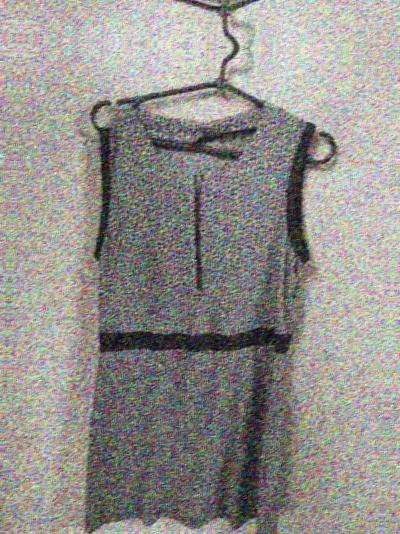Dress: (39, 78, 322, 534), (63, 0, 346, 14)
